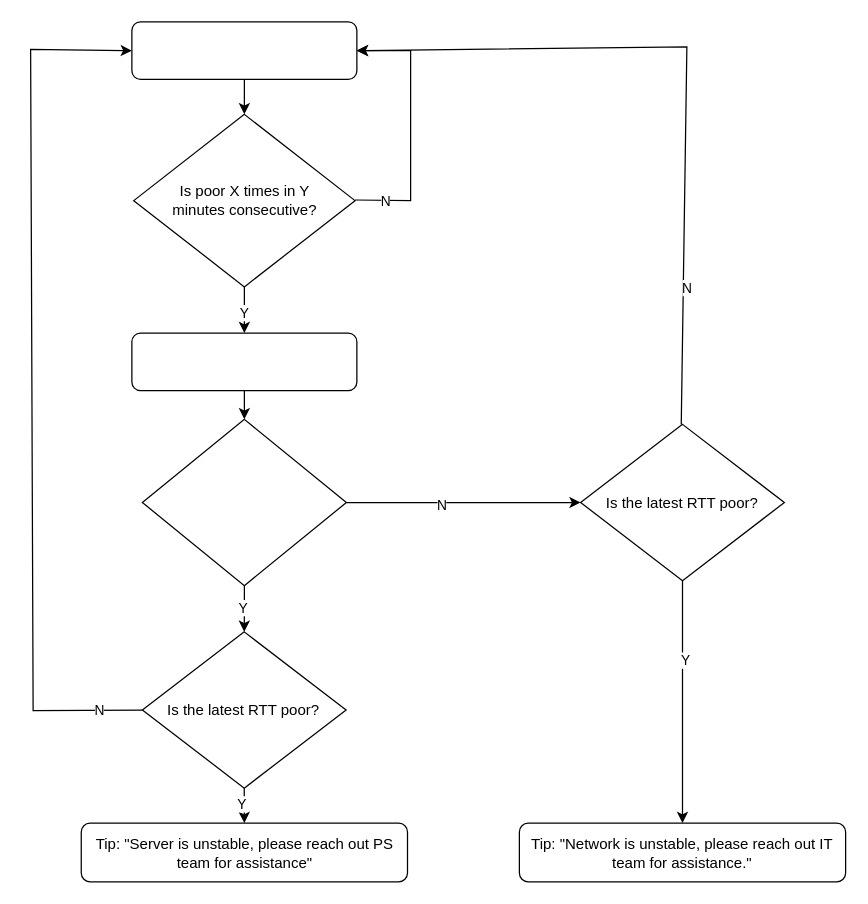
Image size: 868x904. Some labels were removed from this diagram. The shapes that lost their labels are listed below. From the top down, each one's box as (x1, y1, x2, y2) in pixels, then its label:
(131, 21, 357, 79): Intercept receive api,get RTT
(131, 332, 357, 391): Ping Google.com M times
(141, 418, 346, 586): Is all connected normally?
